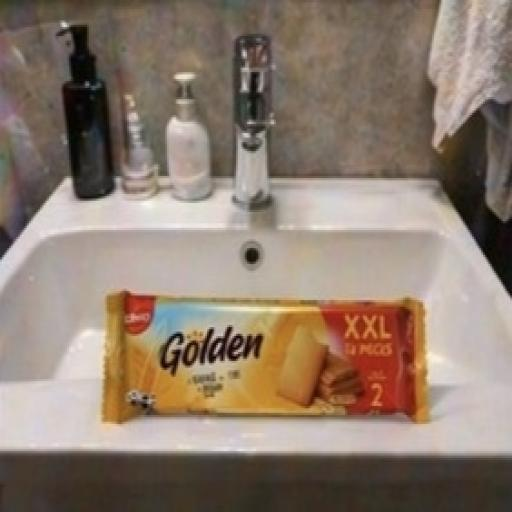golden: (88, 250, 462, 481)
